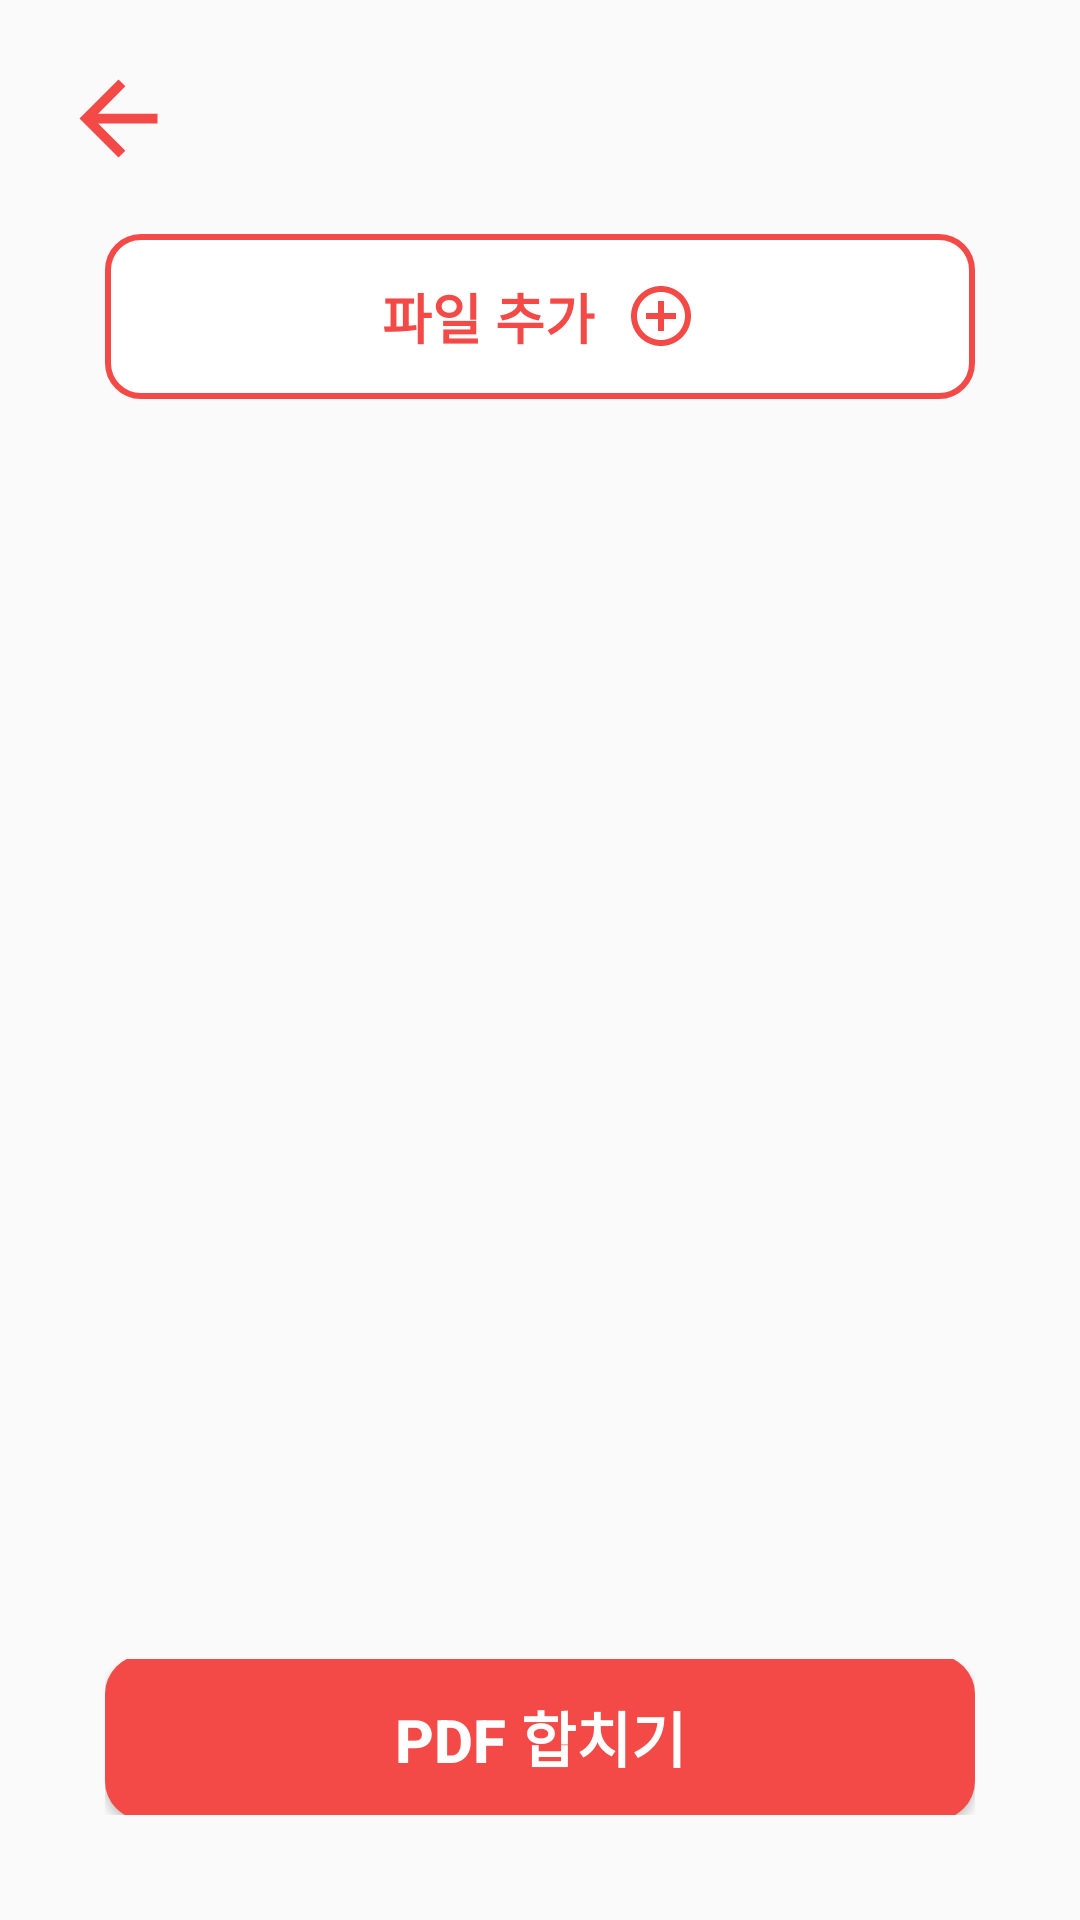

Where to tap for icons on this 1080*1920 app screen, as point (x, y):
add circle: point (661, 316)
arrow back: point (118, 118)
